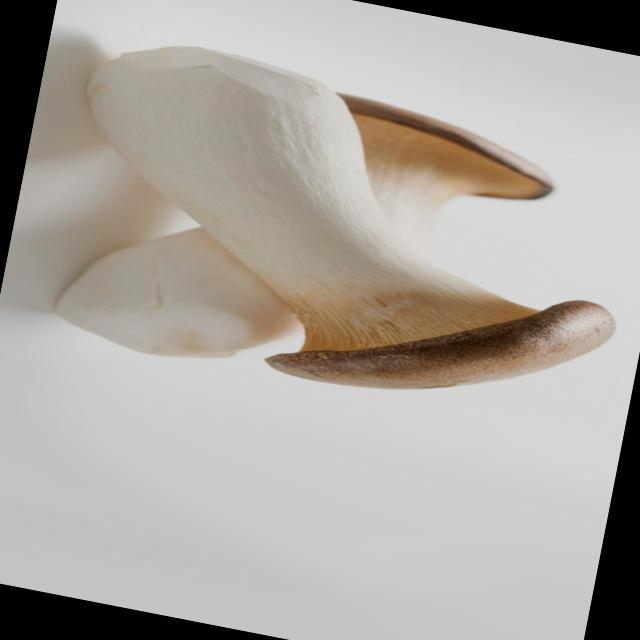Pleurotus eryngii: (39, 25, 640, 443)
